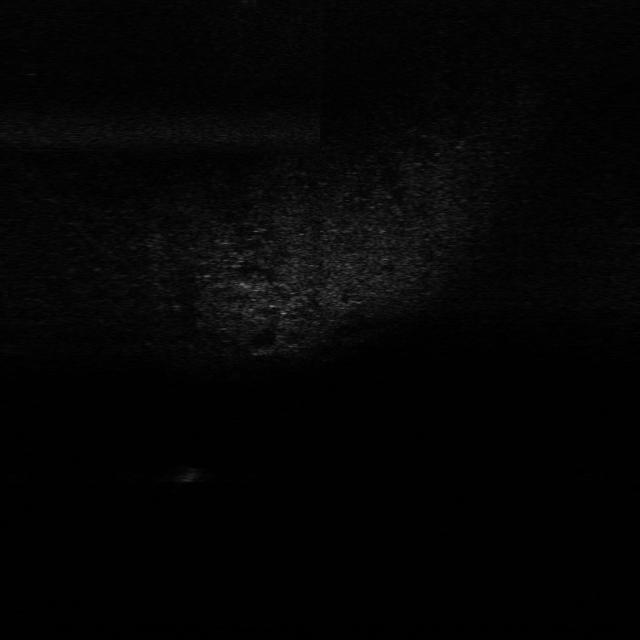cylinder: (172, 462, 200, 485)
